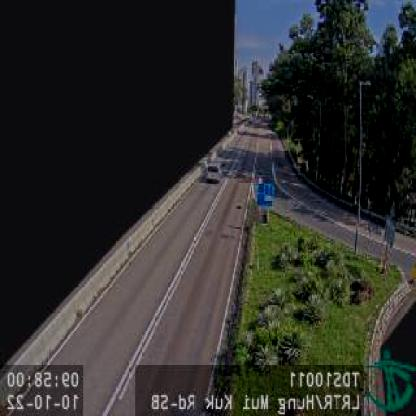Car: (205, 161, 221, 181)
